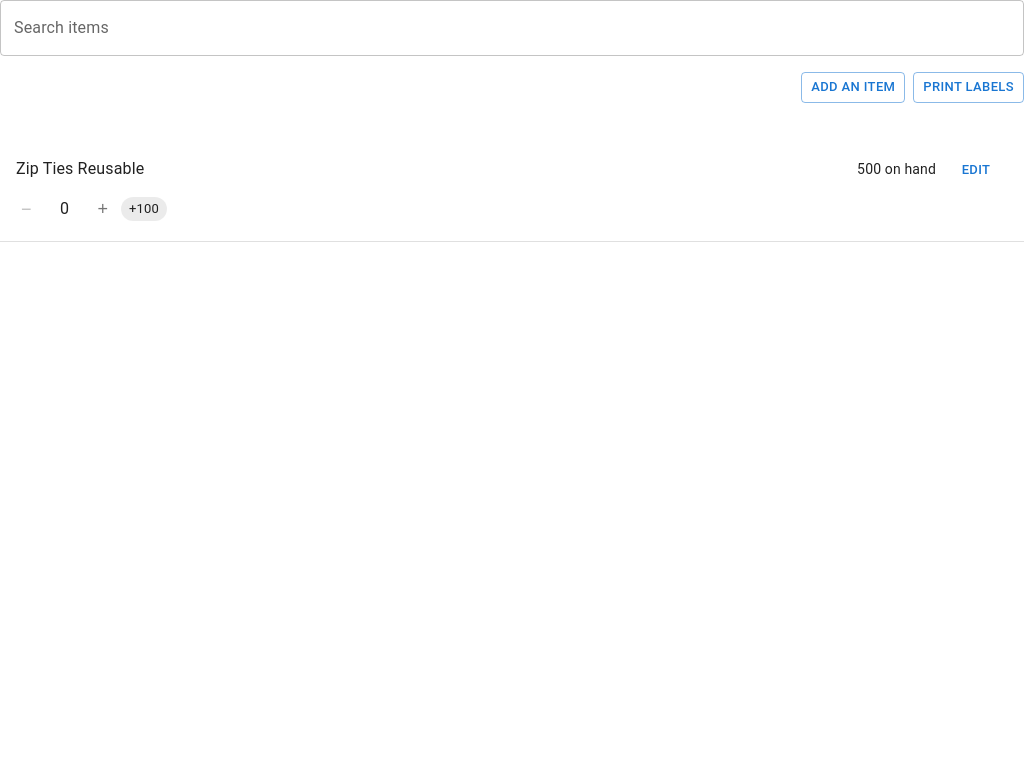
a category, made where an item is put in one › posts the grouping and then chooses it
Expected: the heading "Zip Ties Reusable" is shown, [16, 155, 144, 183]
Click the button "Add an item".
click(853, 87)  # box [801, 72, 905, 103]
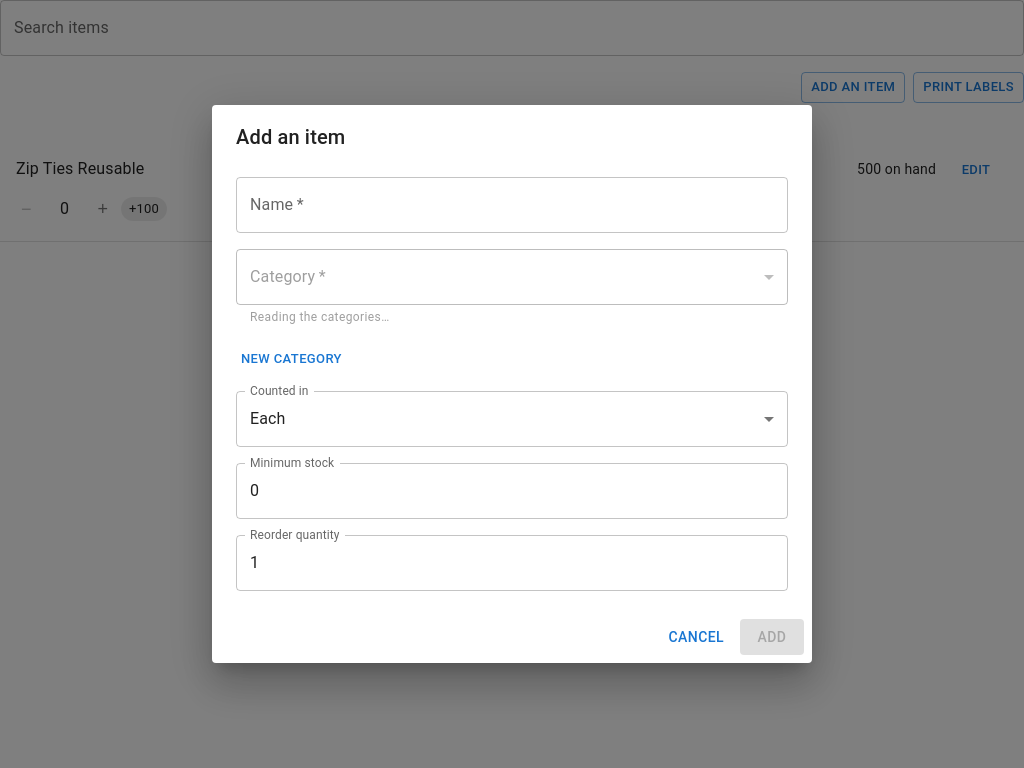
Click the button "New category".
click(291, 359)  # box [236, 344, 347, 375]
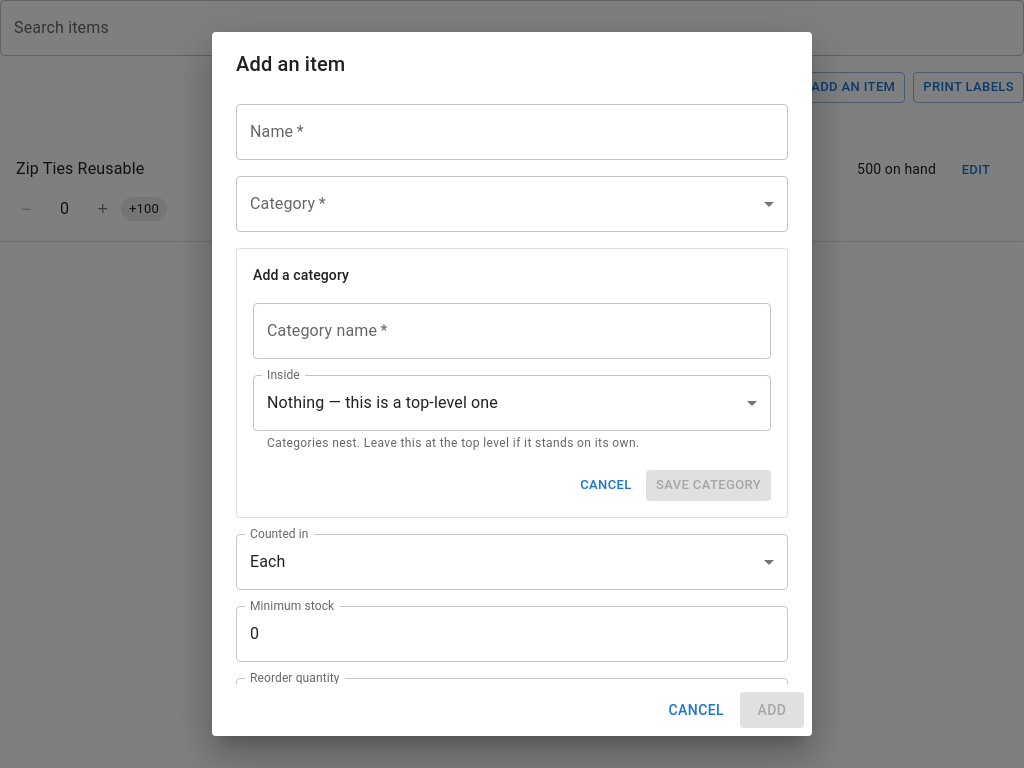
Type "Fittings" into the field labelled "Category name *".
click(512, 331); type("Fittings")  # box [253, 303, 771, 359]
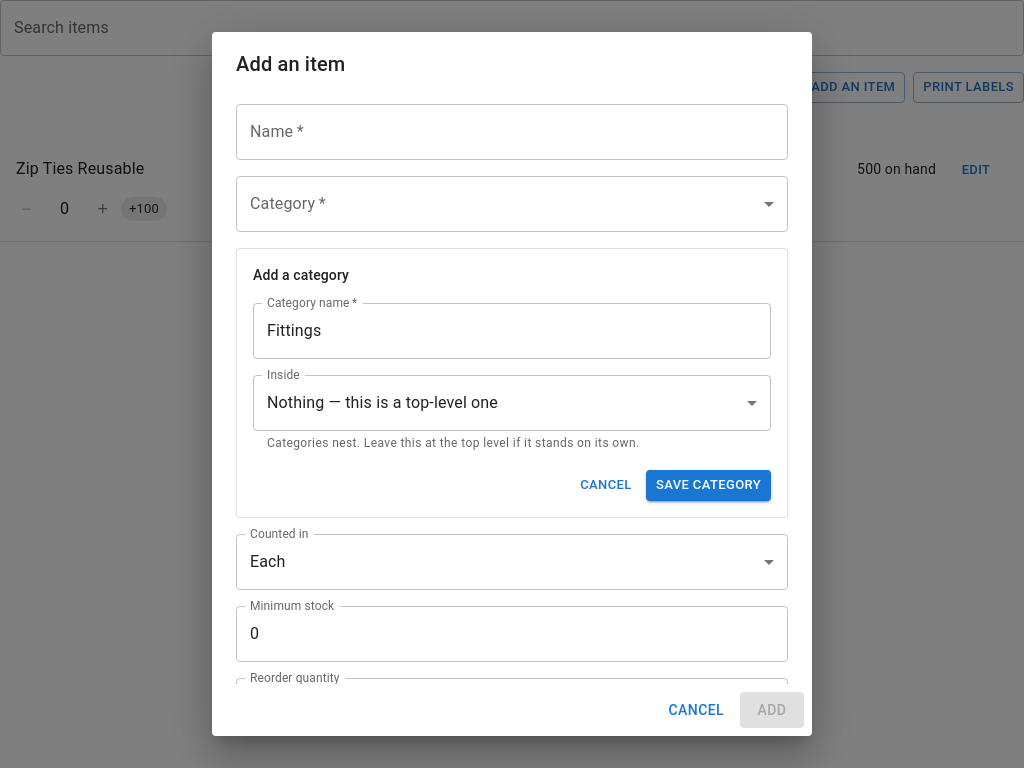
Click the button "Save category".
click(708, 485)  # box [646, 470, 771, 501]
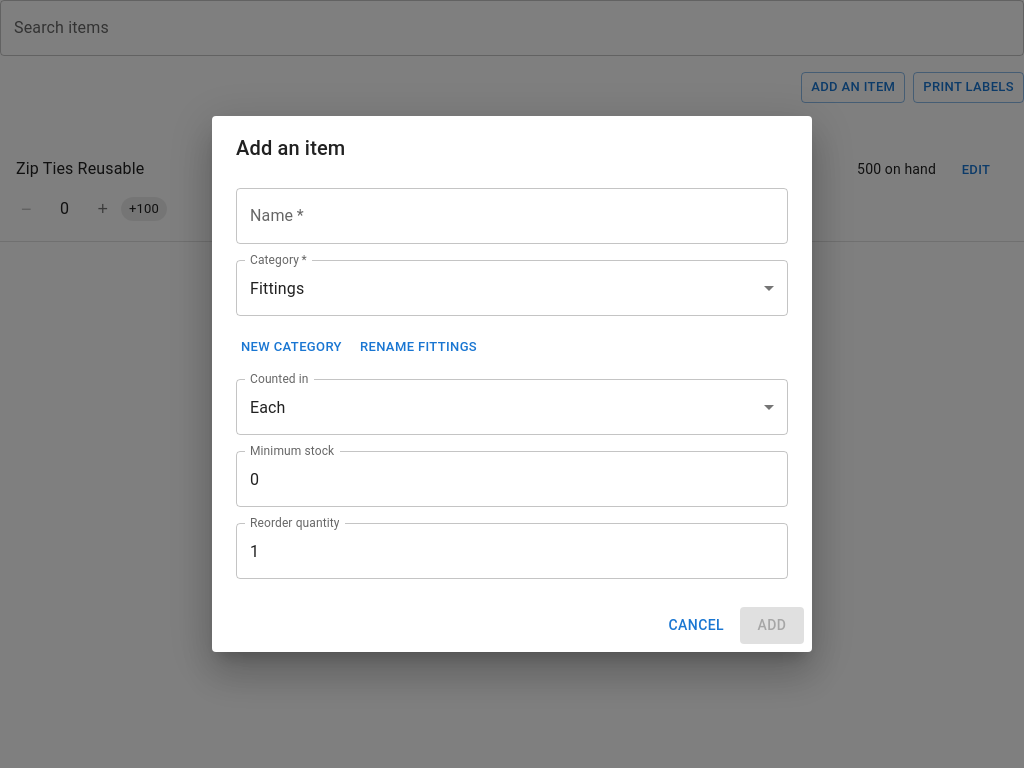
Expected: the heading "Add a category" is gone
Expected: the dropdown named "category" reads "Fittings", [250, 279, 304, 298]
